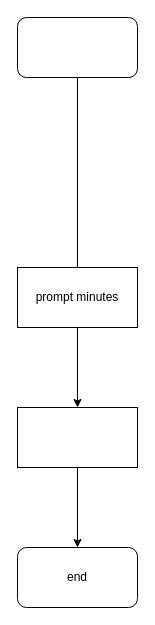
The diagram is 155 pixels wide and 625 high, and some of its shapes have lost their labels. Each missing label, with the centre of its shape:
"Return: minutes * 60" goes at point (77, 437).
"start" goes at point (77, 47).
